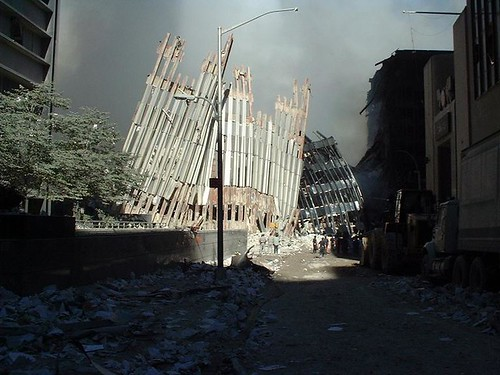building: (117, 37, 367, 239), (424, 1, 500, 306)
light pole: (213, 1, 305, 272)
tree: (1, 90, 138, 225)
